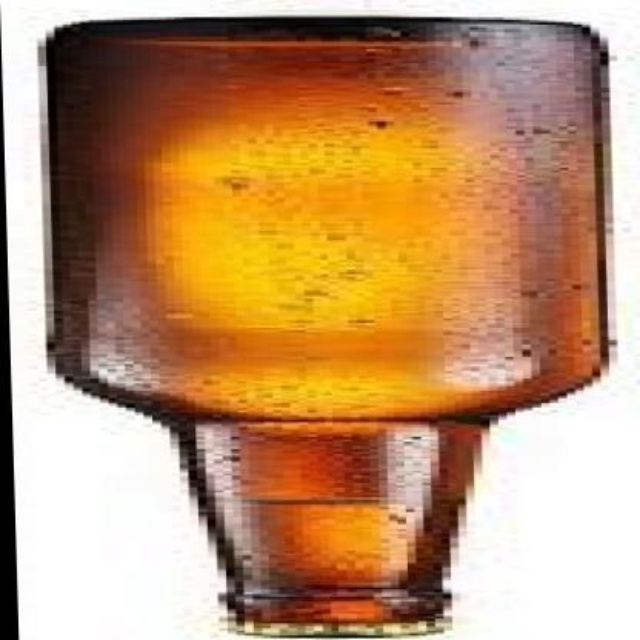trash: (46, 18, 608, 634)
